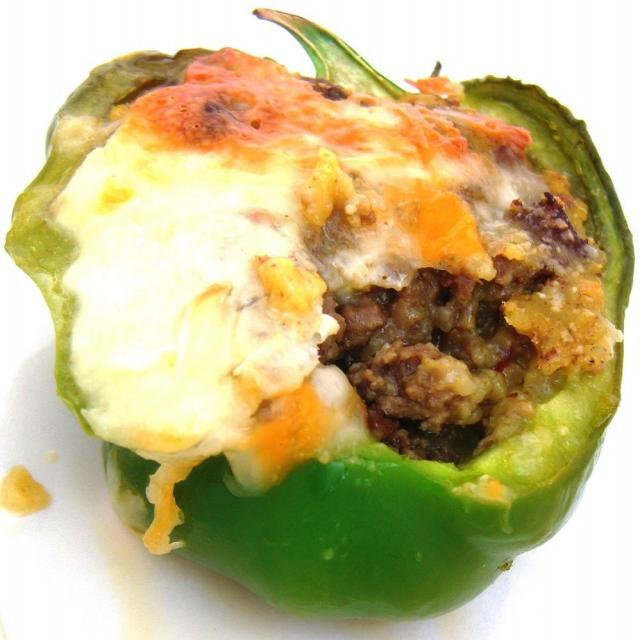Bell pepper: (5, 3, 633, 618)
